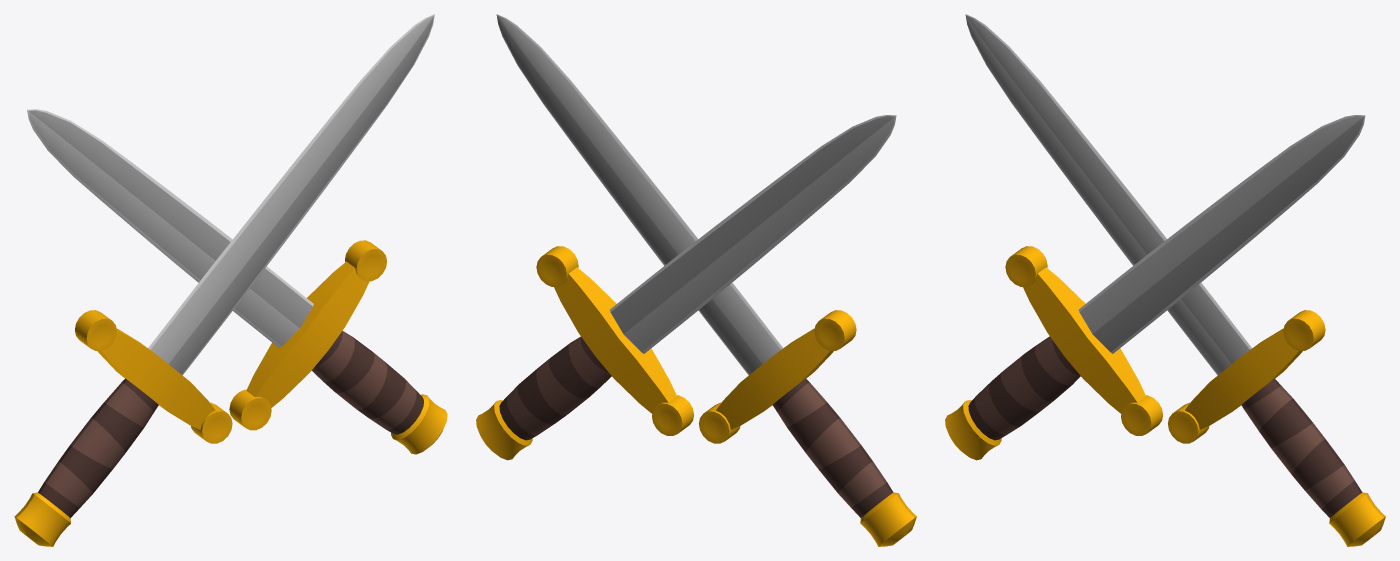
Rendered from crossed_swords.glb.
3 views of the same model, side by side, from view 1: azimuth 30°, elevation 25°; view 2: azimuth 150°, elevation 25°; view 3: azimuth 330°, elevation 25° (orthographic).
Visible parts, largest first — view 1: Cube.994, Cube.995; view 2: Cube.995, Cube.994; view 3: Cube.994, Cube.995.
Boxes of the visible parts, x1,y1,x2,y2 form: Cube.994: (14,14,434,546); Cube.995: (27,109,447,454); Cube.995: (476,115,896,460); Cube.994: (496,14,916,546); Cube.994: (945,115,1365,460); Cube.995: (965,14,1385,546).
Size of the model in its own units: 2.24 by 2.17 by 0.2037.
1 material, 1 textured.
